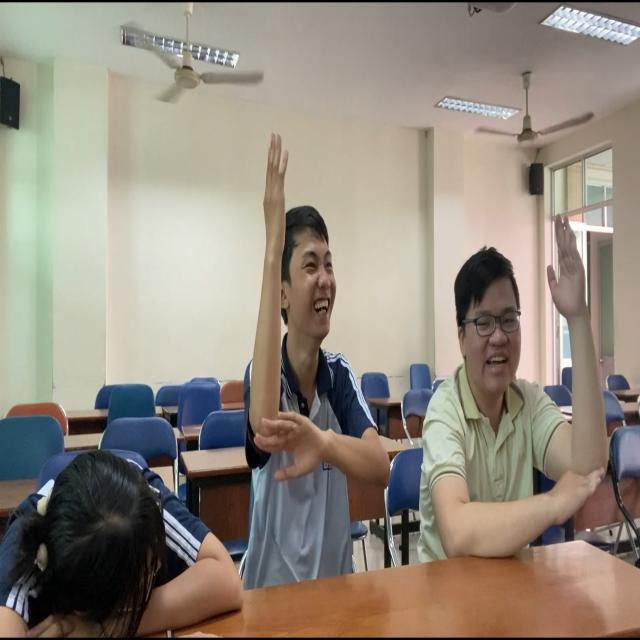raise_hand: (245, 134, 392, 581), (436, 214, 610, 564)
sleep: (3, 451, 239, 640)
